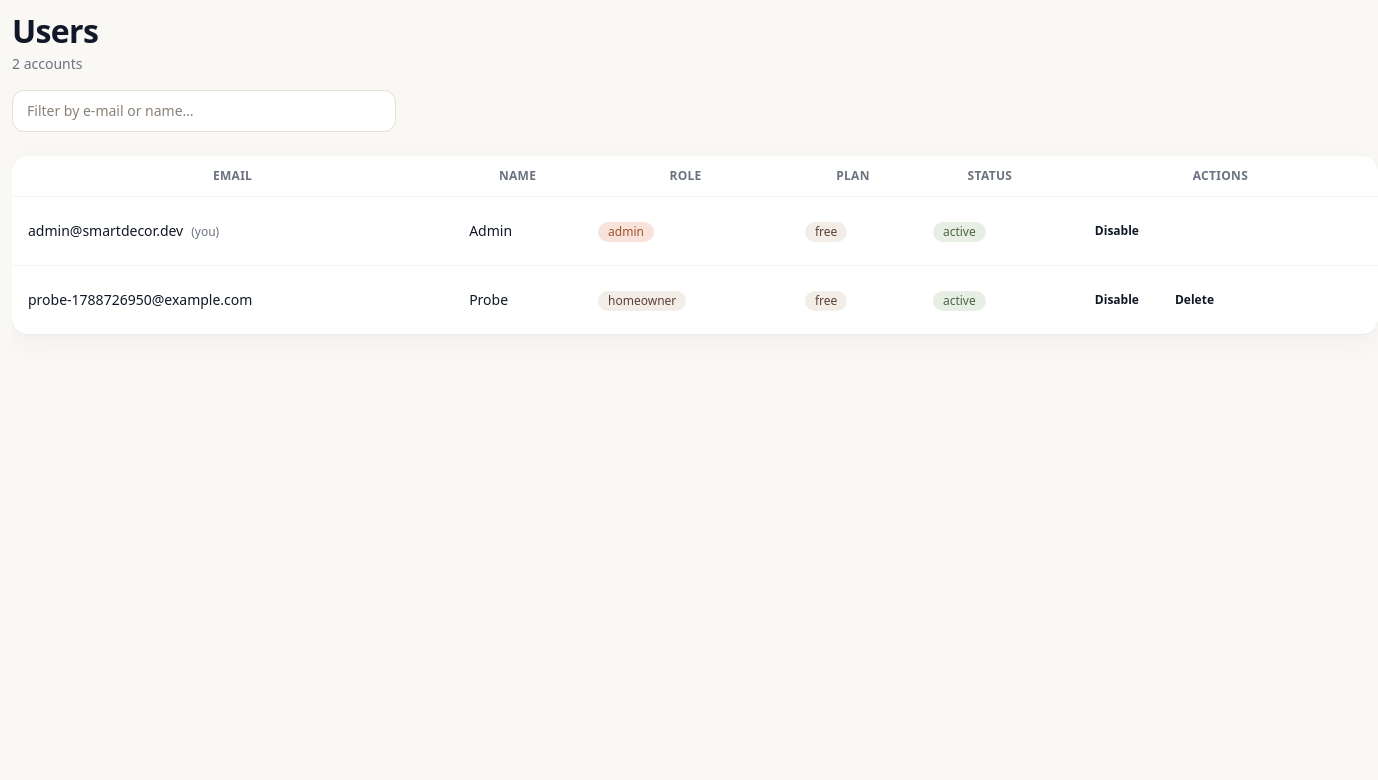
Test case: AdminUsersPage — delete › surfaces the backend's 409 sentence verbatim
The image size is (1378, 780).
Click the button with aria-label "delete probe" at [1194, 300], box [1159,278,1230,322]
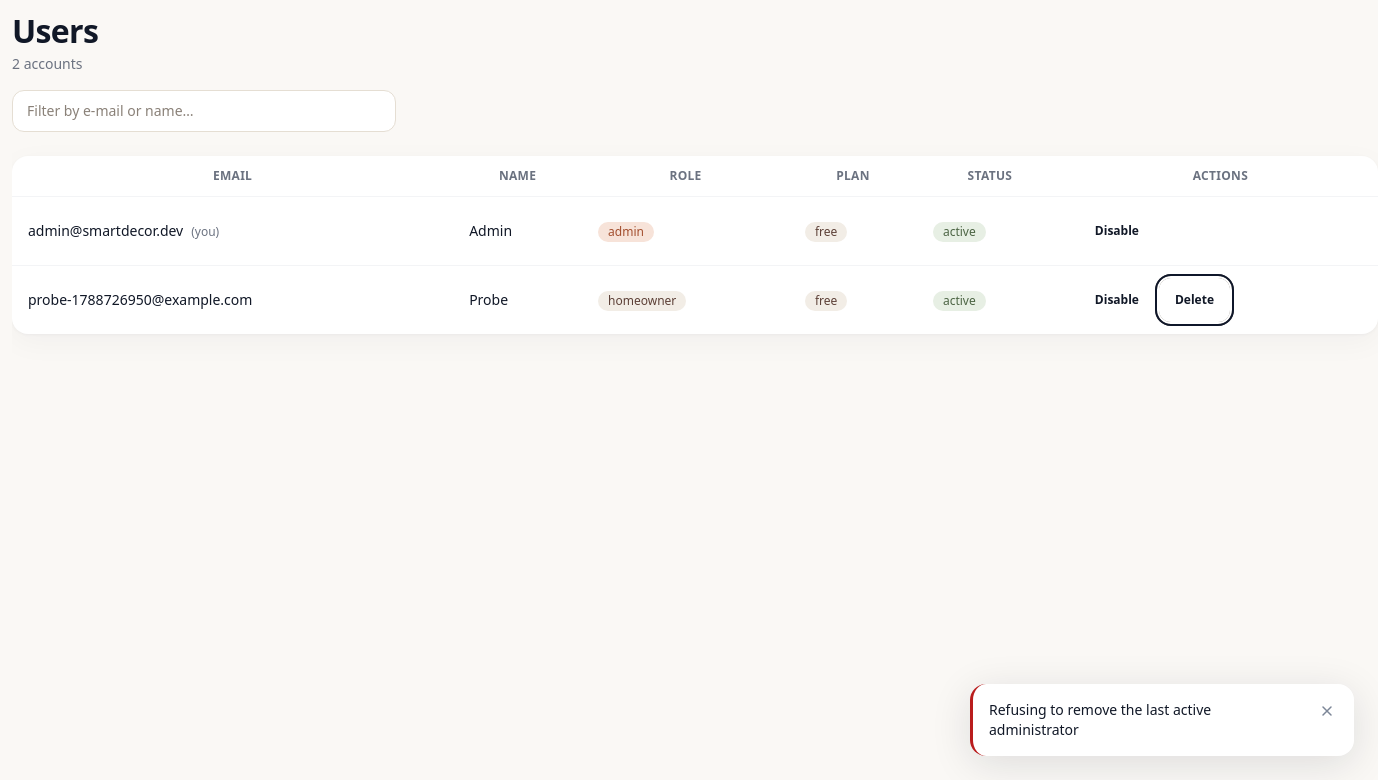
Now the text "Refusing to remove the last active administrator" is shown, box [989,700,1211,739]
